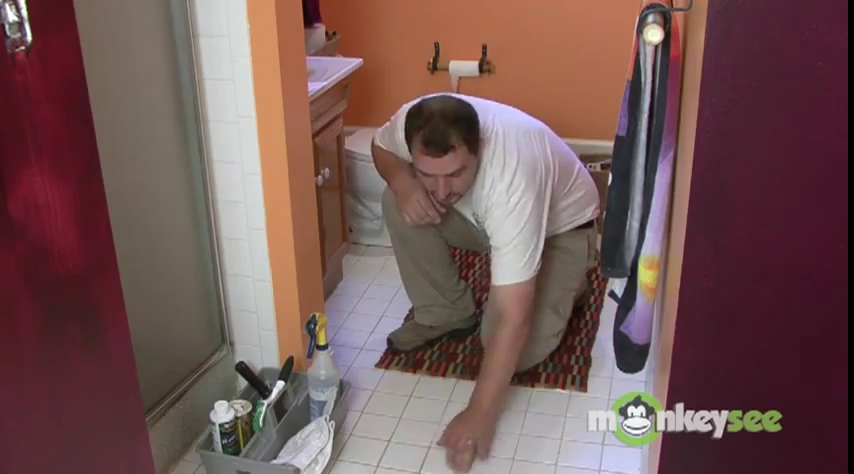person: (371, 92, 601, 474)
